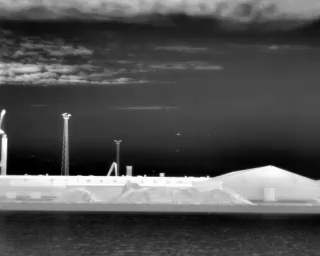BIRD: (174, 130, 182, 138)
